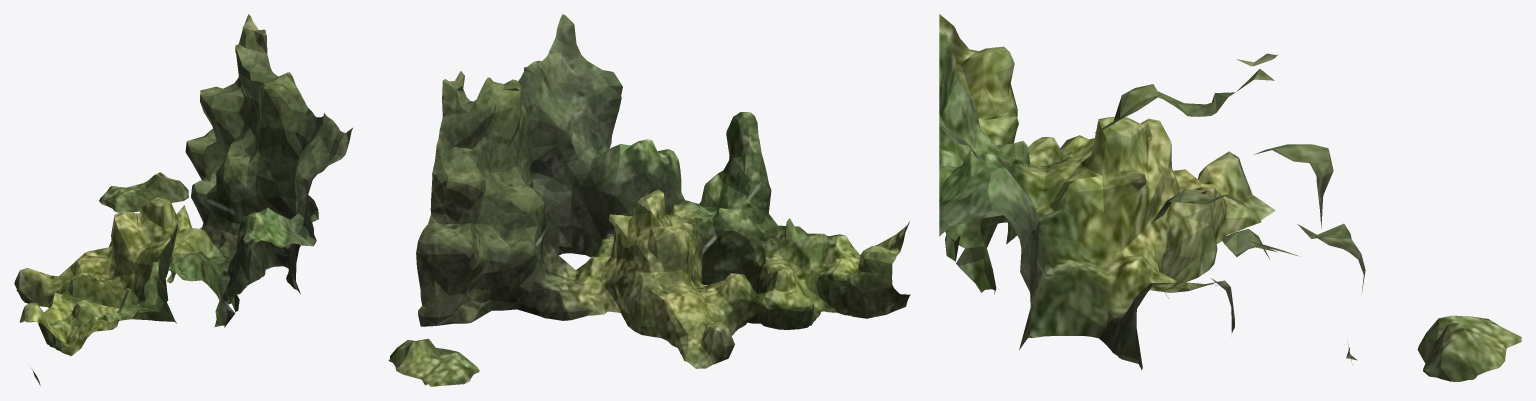
3 views of the same model, side by side, from view 1: azimuth 30°, elevation 25°; view 2: azimuth 150°, elevation 25°; view 3: azimuth 270°, elevation 25° (orthographic). The views are drawn at different scales.
Size of the model in its own units: 5.9 by 3.73 by 5.9.
Materials: 3 (3 with a texture image).
